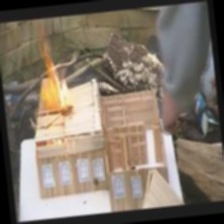fire: (19, 22, 79, 117)
